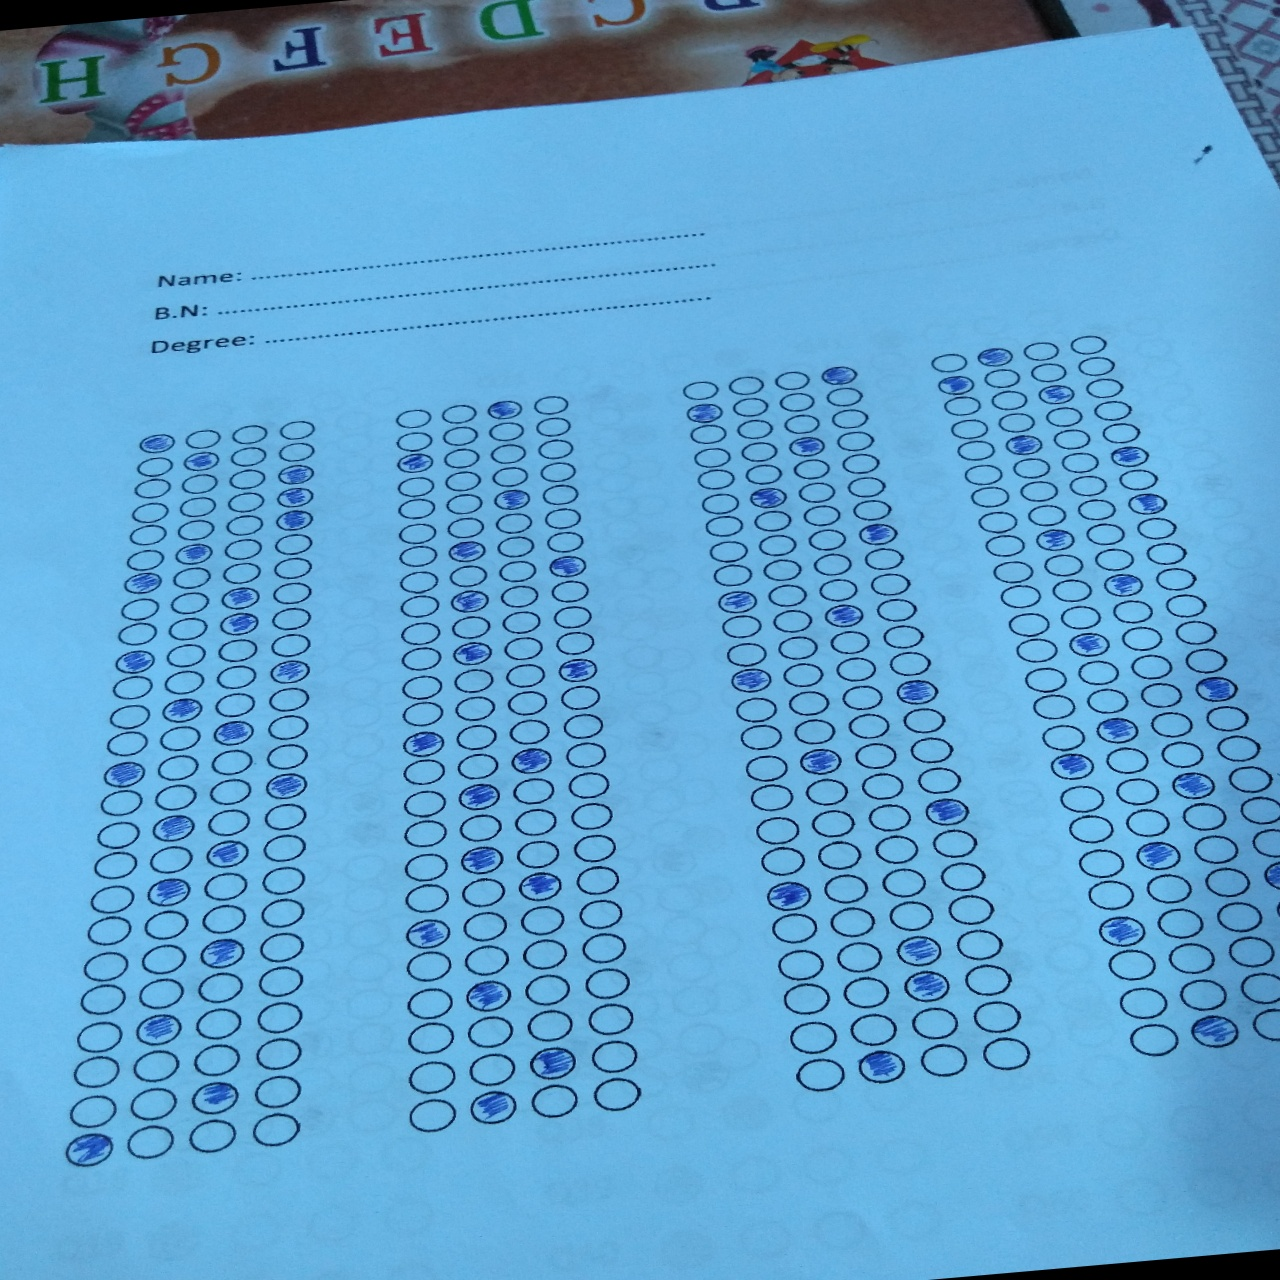not-c: (125, 1122, 179, 1163), (66, 1092, 120, 1133), (591, 1075, 645, 1116), (588, 1036, 642, 1077), (580, 965, 634, 1006), (1126, 1020, 1180, 1061), (1177, 975, 1231, 1016), (1116, 983, 1170, 1024), (1105, 944, 1159, 985), (1155, 903, 1208, 944), (1084, 874, 1138, 915), (846, 1009, 900, 1050), (908, 1003, 964, 1043), (406, 1017, 458, 1058), (584, 999, 636, 1040), (972, 998, 1024, 1039), (1216, 897, 1268, 938), (953, 925, 1006, 966), (788, 1017, 840, 1058), (832, 937, 885, 978), (769, 908, 822, 949), (946, 888, 999, 930), (186, 1116, 240, 1156), (125, 1084, 179, 1124), (406, 1096, 459, 1136), (403, 983, 457, 1023), (527, 1082, 581, 1122), (794, 1056, 847, 1096), (917, 1041, 971, 1081), (838, 973, 892, 1013), (774, 945, 828, 985), (825, 903, 879, 942), (406, 1058, 458, 1098), (981, 1034, 1034, 1074), (1165, 938, 1218, 978), (885, 896, 938, 935), (937, 857, 990, 896), (877, 864, 931, 903), (964, 961, 1016, 1000), (1226, 933, 1279, 972), (779, 979, 832, 1017), (72, 1053, 123, 1091), (132, 974, 185, 1012), (467, 1050, 519, 1088), (819, 870, 872, 907), (756, 843, 809, 880), (806, 805, 860, 842), (256, 964, 307, 1001), (193, 1005, 245, 1042), (129, 1048, 181, 1085), (1143, 871, 1194, 908), (1111, 772, 1163, 810), (77, 981, 130, 1017), (248, 1111, 301, 1148), (753, 812, 805, 849), (930, 825, 982, 862), (1190, 832, 1242, 869), (526, 1006, 576, 1044), (253, 1035, 304, 1073), (252, 1073, 302, 1110), (464, 1013, 515, 1050), (1180, 797, 1231, 835), (74, 1017, 125, 1054), (190, 1041, 241, 1077), (813, 837, 865, 873), (1123, 804, 1175, 840), (1201, 864, 1253, 900), (256, 930, 308, 965), (80, 948, 132, 983), (572, 862, 622, 898), (138, 941, 189, 978), (256, 999, 306, 1035), (523, 971, 573, 1007), (193, 971, 245, 1006), (871, 832, 922, 867), (1065, 813, 1117, 849), (1076, 846, 1128, 881), (1225, 761, 1276, 796), (1212, 730, 1264, 765), (508, 772, 557, 809), (457, 810, 508, 845), (510, 805, 560, 840), (570, 830, 620, 865), (565, 768, 615, 803), (463, 942, 513, 978), (578, 930, 628, 965), (1057, 779, 1108, 815), (87, 883, 138, 917), (197, 903, 248, 937), (257, 896, 308, 930), (512, 836, 561, 871), (568, 799, 618, 835), (561, 737, 611, 772), (576, 897, 625, 932), (403, 948, 452, 983), (519, 935, 568, 971), (518, 903, 568, 937), (259, 831, 309, 865), (259, 864, 309, 898), (202, 869, 252, 903), (802, 776, 852, 810), (747, 779, 797, 813), (741, 753, 791, 787), (1146, 707, 1197, 741), (1200, 700, 1251, 734), (458, 874, 508, 908), (459, 908, 509, 942), (260, 799, 309, 833), (86, 912, 135, 946), (864, 801, 913, 835), (915, 763, 965, 797), (731, 694, 781, 728), (723, 636, 772, 670), (203, 805, 253, 838), (1157, 737, 1207, 770), (1103, 743, 1153, 776), (736, 721, 787, 754), (1239, 967, 1280, 1007), (91, 847, 139, 881), (862, 769, 910, 803), (454, 749, 503, 782), (403, 881, 452, 914), (206, 776, 256, 809), (141, 908, 190, 941), (851, 740, 900, 772), (1039, 721, 1088, 754), (1234, 794, 1280, 829), (400, 787, 448, 819), (451, 721, 501, 753), (401, 818, 450, 850), (402, 851, 451, 883), (151, 782, 200, 813), (155, 753, 204, 784), (96, 787, 145, 818), (93, 819, 142, 851), (109, 672, 157, 703), (397, 672, 445, 703), (400, 756, 448, 788), (263, 741, 311, 772), (147, 843, 195, 874), (779, 660, 826, 692), (1182, 645, 1228, 676), (1074, 658, 1121, 689), (551, 628, 599, 659), (454, 694, 502, 724), (265, 685, 313, 715), (886, 649, 934, 680), (1126, 652, 1175, 682), (998, 580, 1046, 611), (990, 558, 1039, 588), (1138, 680, 1184, 712), (1118, 622, 1164, 654), (1163, 590, 1208, 621), (212, 662, 259, 693), (397, 645, 444, 675), (451, 665, 498, 695), (508, 716, 554, 747), (212, 690, 259, 721), (156, 722, 203, 753), (209, 747, 256, 777), (719, 611, 765, 641), (775, 633, 822, 663), (840, 682, 887, 713), (825, 627, 872, 658), (880, 621, 927, 652), (901, 704, 948, 735), (908, 735, 955, 765), (873, 594, 920, 625), (1032, 692, 1078, 722), (1083, 686, 1130, 716), (1022, 665, 1069, 695), (1006, 608, 1053, 639), (1152, 563, 1197, 594), (105, 702, 154, 731), (787, 688, 832, 719), (792, 716, 838, 747), (833, 654, 879, 685), (983, 531, 1029, 561), (1092, 544, 1138, 574), (161, 668, 207, 697), (501, 634, 547, 663), (502, 660, 549, 689), (400, 697, 447, 727), (502, 689, 549, 719), (556, 683, 602, 713), (104, 729, 151, 758), (263, 713, 309, 742), (767, 607, 813, 636), (846, 712, 893, 741), (867, 570, 914, 599), (1013, 636, 1060, 666), (1133, 515, 1180, 544), (215, 636, 263, 665), (268, 580, 315, 608), (396, 592, 443, 620), (397, 619, 444, 647), (549, 602, 595, 631), (268, 605, 315, 633), (164, 615, 211, 644), (162, 641, 209, 669), (267, 632, 314, 660), (559, 712, 606, 740), (1058, 602, 1105, 631), (1173, 618, 1218, 647), (1144, 539, 1189, 568), (1074, 493, 1118, 523), (760, 554, 804, 584), (445, 614, 493, 641), (165, 588, 211, 617), (816, 576, 862, 604), (1050, 576, 1096, 604), (1111, 597, 1157, 625), (862, 544, 905, 573), (496, 583, 543, 610), (498, 610, 545, 636), (114, 621, 161, 648), (762, 583, 809, 610), (437, 400, 482, 428), (1041, 551, 1085, 579), (1083, 520, 1128, 549), (1024, 501, 1069, 529), (712, 561, 756, 590), (706, 537, 750, 565), (1250, 1005, 1280, 1046), (397, 568, 443, 595), (392, 474, 437, 501), (390, 403, 436, 430), (542, 527, 587, 554), (843, 474, 888, 501), (1115, 467, 1160, 493), (1017, 338, 1063, 365), (679, 377, 724, 404), (976, 508, 1020, 536), (811, 551, 855, 579), (755, 531, 798, 559), (805, 526, 849, 554), (117, 595, 162, 622), (396, 544, 441, 571), (395, 520, 440, 547), (395, 495, 440, 522), (390, 428, 435, 455), (981, 365, 1026, 392), (927, 350, 972, 377), (440, 468, 485, 493), (1067, 472, 1112, 498), (741, 461, 787, 486), (693, 467, 738, 492), (686, 420, 731, 445), (271, 554, 314, 581), (529, 392, 572, 418), (826, 406, 870, 433), (724, 372, 768, 399), (437, 422, 482, 448), (440, 445, 484, 471), (445, 563, 490, 588), (483, 418, 527, 444), (535, 458, 579, 484), (799, 502, 844, 527), (849, 497, 893, 523), (701, 515, 745, 540), (796, 481, 840, 506), (940, 393, 985, 418), (1041, 404, 1085, 430), (1082, 376, 1126, 402), (1028, 360, 1073, 386), (822, 384, 866, 410), (832, 428, 877, 454), (731, 416, 776, 442), (776, 389, 821, 415), (769, 368, 813, 394), (444, 515, 486, 542), (1010, 454, 1053, 481), (493, 559, 539, 584), (493, 535, 539, 559), (486, 464, 532, 489), (1065, 333, 1111, 358), (171, 565, 215, 591), (443, 491, 486, 517), (532, 414, 576, 440), (533, 436, 577, 462), (549, 579, 592, 605), (1051, 427, 1095, 452), (955, 438, 999, 464), (1092, 399, 1136, 424), (1099, 420, 1143, 445), (736, 440, 779, 465), (750, 508, 794, 533), (485, 442, 530, 467), (699, 490, 743, 515), (967, 484, 1012, 509), (1016, 479, 1061, 504), (1058, 449, 1103, 474), (987, 389, 1032, 414), (994, 409, 1039, 434), (1075, 354, 1119, 379), (789, 456, 833, 481), (779, 411, 824, 436), (730, 395, 775, 420), (177, 493, 219, 519), (128, 499, 170, 525), (125, 523, 168, 549), (540, 482, 583, 508), (492, 511, 536, 536), (540, 506, 584, 531), (962, 462, 1006, 486), (948, 415, 992, 440), (838, 451, 881, 476), (688, 444, 731, 469), (131, 476, 173, 501), (178, 471, 220, 496), (226, 467, 268, 491), (225, 490, 267, 515), (224, 512, 266, 537), (175, 517, 217, 542), (124, 549, 166, 573), (272, 533, 314, 558), (1251, 826, 1280, 862), (135, 455, 176, 479), (222, 537, 263, 561), (222, 560, 263, 585), (181, 427, 223, 450), (275, 418, 316, 442), (275, 441, 316, 464), (227, 445, 268, 469), (229, 423, 268, 445), (1274, 890, 1280, 930)
taken-c: (60, 1129, 117, 1171), (400, 914, 457, 955), (465, 1085, 520, 1128), (524, 1043, 580, 1084), (186, 1077, 241, 1118), (459, 974, 515, 1015), (1092, 912, 1149, 951), (891, 931, 945, 971), (855, 1047, 908, 1087), (1187, 1012, 1242, 1050), (1129, 837, 1184, 874), (900, 966, 953, 1005), (1166, 767, 1220, 804), (131, 1012, 184, 1049), (458, 843, 511, 880), (397, 726, 450, 763), (505, 741, 557, 778), (455, 778, 508, 815), (1047, 748, 1099, 784), (513, 869, 565, 905), (763, 878, 815, 914), (143, 874, 195, 910), (921, 794, 973, 829), (1092, 715, 1144, 749), (1065, 628, 1117, 662), (202, 836, 252, 870), (196, 937, 246, 971), (797, 745, 847, 779), (1193, 673, 1244, 707), (447, 636, 496, 669), (727, 665, 775, 697), (149, 812, 198, 844), (443, 537, 492, 568), (554, 655, 605, 686), (445, 586, 495, 617), (542, 552, 591, 583), (158, 695, 206, 726), (207, 716, 256, 747), (893, 676, 941, 707), (1032, 525, 1080, 556), (1123, 490, 1171, 520), (101, 758, 148, 789), (263, 771, 309, 802), (1107, 442, 1153, 472), (1002, 430, 1049, 461), (392, 451, 438, 481), (819, 600, 866, 629), (1101, 571, 1148, 600), (745, 484, 792, 512), (714, 588, 761, 617), (481, 397, 526, 425), (853, 520, 900, 547), (111, 648, 156, 676), (267, 658, 312, 686), (491, 486, 536, 515), (973, 343, 1017, 372), (217, 584, 263, 611), (217, 610, 263, 636), (121, 568, 165, 595), (933, 372, 978, 399), (1033, 382, 1078, 408), (818, 362, 863, 388), (273, 506, 315, 533), (788, 433, 829, 459), (181, 449, 225, 474), (172, 542, 215, 567), (685, 401, 726, 427), (273, 485, 315, 510), (135, 431, 178, 455), (274, 463, 316, 486), (1259, 857, 1280, 896)
